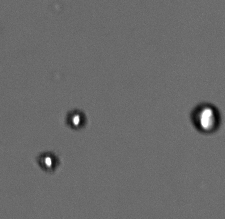Living Cell: (190, 101, 222, 135), (36, 151, 61, 173), (65, 108, 87, 131)
